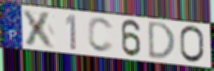1: (65, 14, 77, 51)
6: (120, 18, 142, 58)
C: (87, 16, 115, 55)
D: (147, 21, 177, 61)
O: (179, 25, 206, 65)
X: (21, 8, 58, 50)
